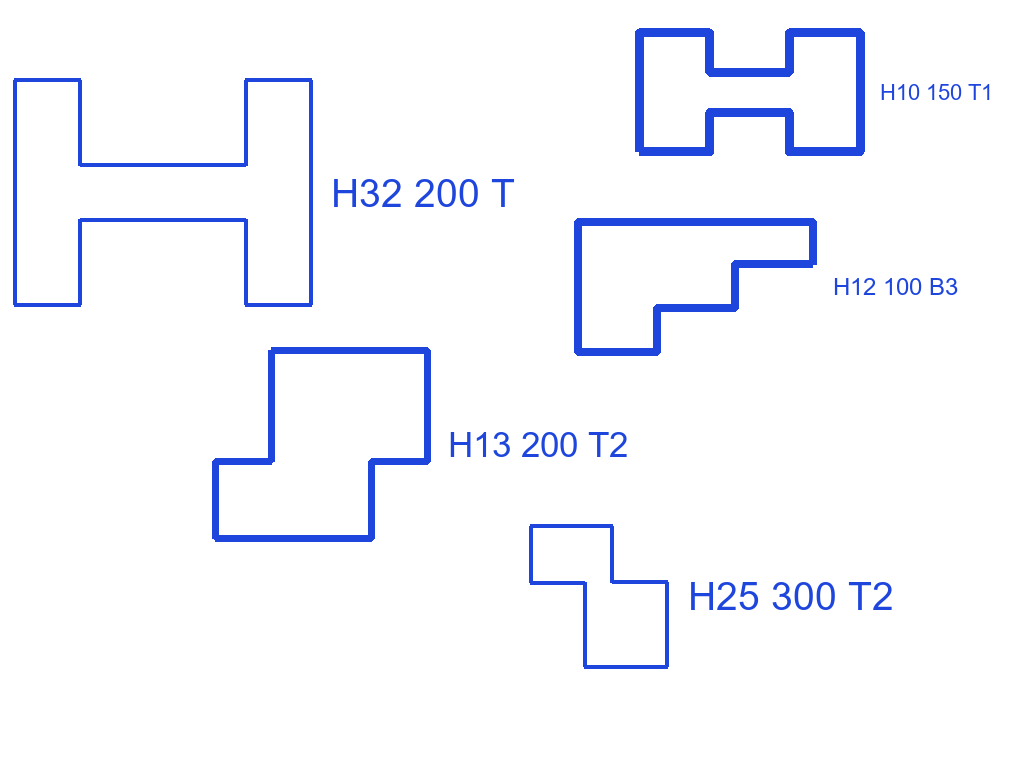shape: (11, 77, 315, 309), (210, 345, 433, 544), (572, 215, 819, 358), (633, 26, 867, 158), (526, 522, 672, 670)
text: (686, 580, 896, 612), (329, 177, 517, 209), (446, 430, 630, 459), (831, 276, 960, 297), (878, 82, 995, 102)
